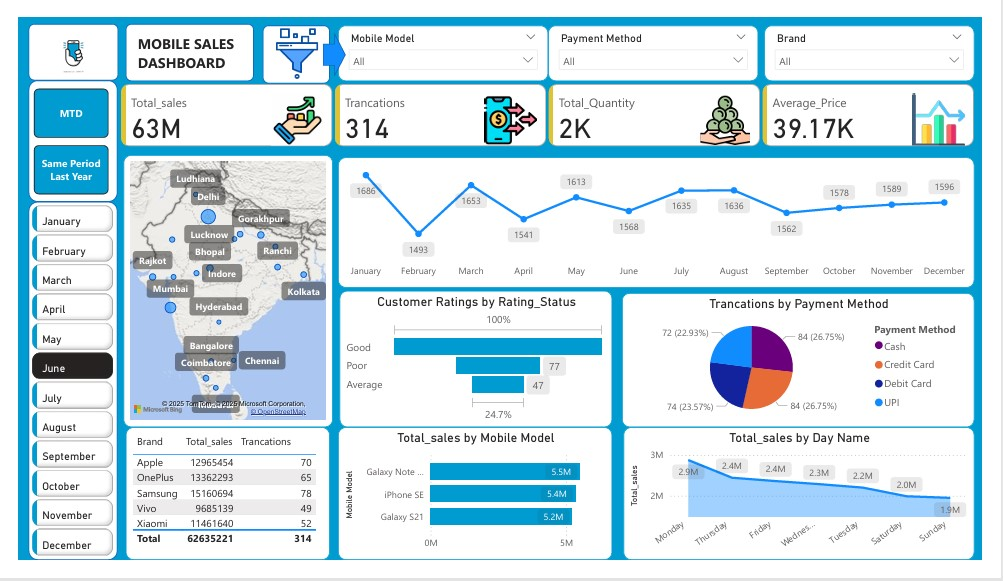

The dashboard page shown, as its layout file describes it:
{"tool":"powerbi","page":{"name":"DashBoard","canvas":[1280,720],"ordinal":0},"visuals":[{"type":"shape","box":[14.2,8.5,119.1,75.1],"z":0},{"type":"image","box":[43.9,19.8,59.5,59.5],"z":1000},{"type":"shape","box":[14.2,83.6,117.6,161.6],"z":2000},{"type":"shape","box":[14.2,245.2,117.6,474.8],"z":3000},{"type":"advancedSlicerVisual","fields":{"Values":["Custom_Calendar.Date.Variation.Date Hierarchy.Month"]},"box":[14.2,245.2,117.6,474.8],"z":4000},{"type":"cardVisual","fields":{"Data":["Sales Data.Total_sales","Sales Data.Trancations","Sales Data.Total_Quantity","Sales Data.Average_Price"]},"box":[131.8,83.6,1145.2,92.1],"z":5000},{"type":"slicer","fields":{"Values":["Sales Data.Mobile Model"]},"box":[424.9,11.3,278.8,74.1],"z":6000},{"type":"slicer","fields":{"Values":["Sales Data.Payment Method"]},"box":[703.9,11.2,279,74],"z":7000},{"type":"slicer","fields":{"Values":["Sales Data.Brand"]},"box":[990.9,11.2,279,74],"z":8000},{"type":"shape","box":[324.6,11.3,89.3,76.5],"z":9000},{"type":"image","box":[279.2,8.5,181.4,79.4],"z":10000},{"type":"shape","box":[405.4,21.3,29.8,58.1],"z":11000},{"type":"shape","box":[143.1,8.5,170.1,76.5],"z":12000},{"type":"textbox","box":[154.5,17,147.4,59.5],"z":13000},{"type":"map","fields":{"Category":["Sales Data.City"],"Size":["Sales Data.Total_sales"]},"box":[140.3,182.8,277.8,361.4],"z":14000},{"type":"lineChart","fields":{"Category":["Custom_Calendar.Date.Variation.Date Hierarchy.Month"],"Y":["Sales Data.Total_Quantity"]},"box":[425.2,185.7,844.7,172.9],"z":15000},{"type":"funnel","title":"Customer Ratings by Rating_Status","fields":{"Y":["Sales Data.Customer Ratings"],"Category":["Sales Data.Rating_Status"]},"box":[426.6,362.8,362.8,181.4],"z":16000},{"type":"pieChart","fields":{"Y":["Sales Data.Trancations"],"Category":["Sales Data.Payment Method"]},"box":[802.2,365.7,467.7,178.6],"z":17000},{"type":"clusteredBarChart","fields":{"Y":["Sales Data.Total_sales"],"Category":["Sales Data.Mobile Model"]},"box":[425.2,544.3,364.3,175.7],"z":18000},{"type":"areaChart","fields":{"Category":["Sales Data.Day Name"],"Y":["Sales Data.Total_sales"]},"box":[803.6,544.3,466.3,175.7],"z":19000},{"type":"tableEx","fields":{"Values":["Sales Data.Brand","Sales Data.Total_sales","Sales Data.Trancations"]},"box":[143.1,544.3,270.7,175.7],"z":20000},{"type":"pageNavigator","box":[21.3,95,99.2,141.7],"z":20001}]}

Visuals, with their boxes in screenshot pixels (x1, y1, x2, y2), scaled from the page's 1280x720 canvas onto the 1003x581 screenshot:
shape: bbox(11, 7, 104, 67)
image: bbox(34, 16, 81, 64)
shape: bbox(11, 67, 103, 198)
shape: bbox(11, 198, 103, 580)
advancedSlicerVisual - Custom_Calendar.Date.Variation.Date Hierarchy.Month: bbox(11, 198, 103, 580)
cardVisual - Sales Data.Total_sales x Sales Data.Trancations: bbox(103, 67, 1001, 142)
slicer - Sales Data.Mobile Model: bbox(333, 9, 551, 69)
slicer - Sales Data.Payment Method: bbox(552, 9, 770, 69)
slicer - Sales Data.Brand: bbox(776, 9, 995, 69)
shape: bbox(254, 9, 324, 71)
image: bbox(219, 7, 361, 71)
shape: bbox(318, 17, 341, 64)
shape: bbox(112, 7, 245, 69)
textbox: bbox(121, 14, 237, 62)
map - Sales Data.City x Sales Data.Total_sales: bbox(110, 148, 328, 439)
lineChart - Custom_Calendar.Date.Variation.Date Hierarchy.Month x Sales Data.Total_Quantity: bbox(333, 150, 995, 289)
"Customer Ratings by Rating_Status" funnel: bbox(334, 293, 619, 439)
pieChart - Sales Data.Trancations x Sales Data.Payment Method: bbox(629, 295, 995, 439)
clusteredBarChart - Sales Data.Total_sales x Sales Data.Mobile Model: bbox(333, 439, 619, 580)
areaChart - Sales Data.Day Name x Sales Data.Total_sales: bbox(630, 439, 995, 580)
tableEx - Sales Data.Brand x Sales Data.Total_sales: bbox(112, 439, 324, 580)
pageNavigator: bbox(17, 77, 94, 191)
